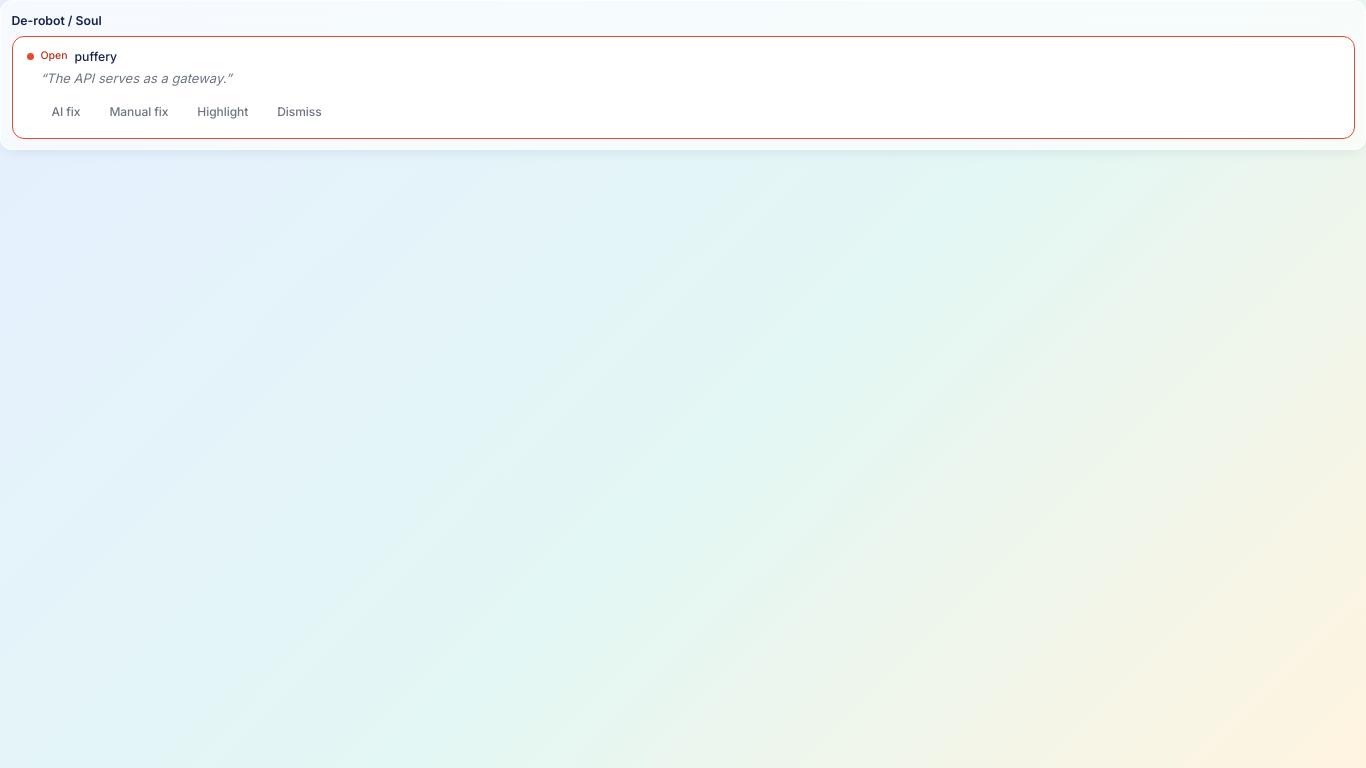
HumanizeReviewRail › dismissing a finding persists it and removes the card
Click the button "Dismiss".
click(299, 112)  # box left=266, top=97, right=332, bottom=128
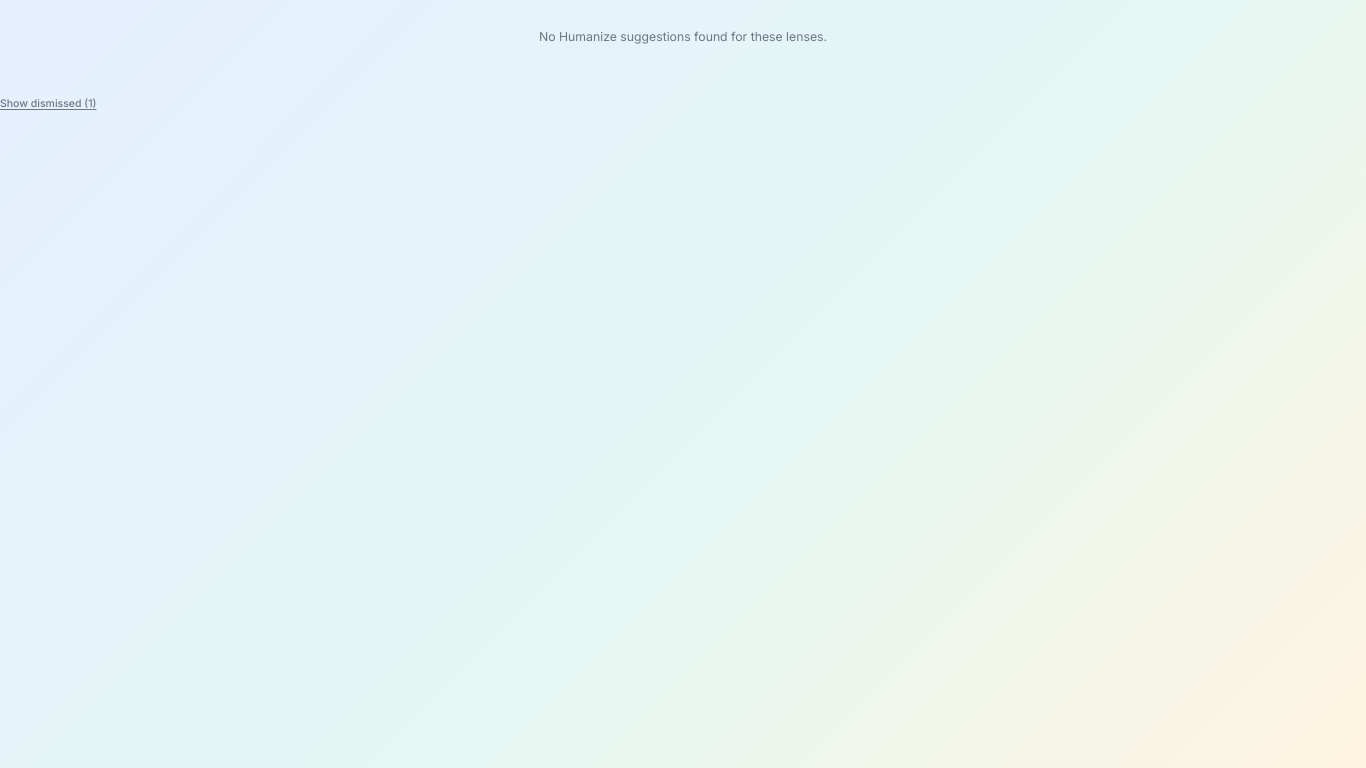
expect the text "puffery" is gone: met
